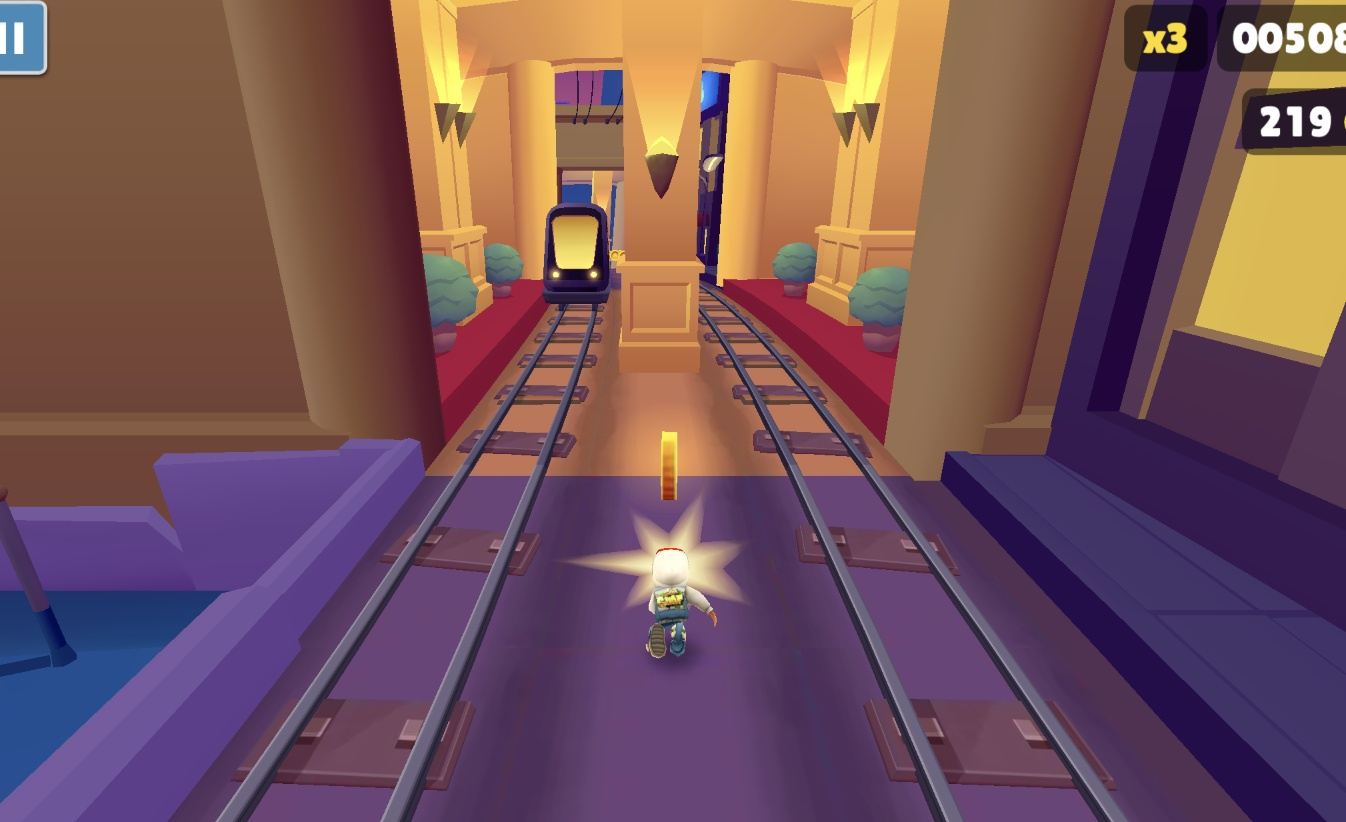pillar: (624, 0, 708, 372)
train: (542, 202, 616, 302)
